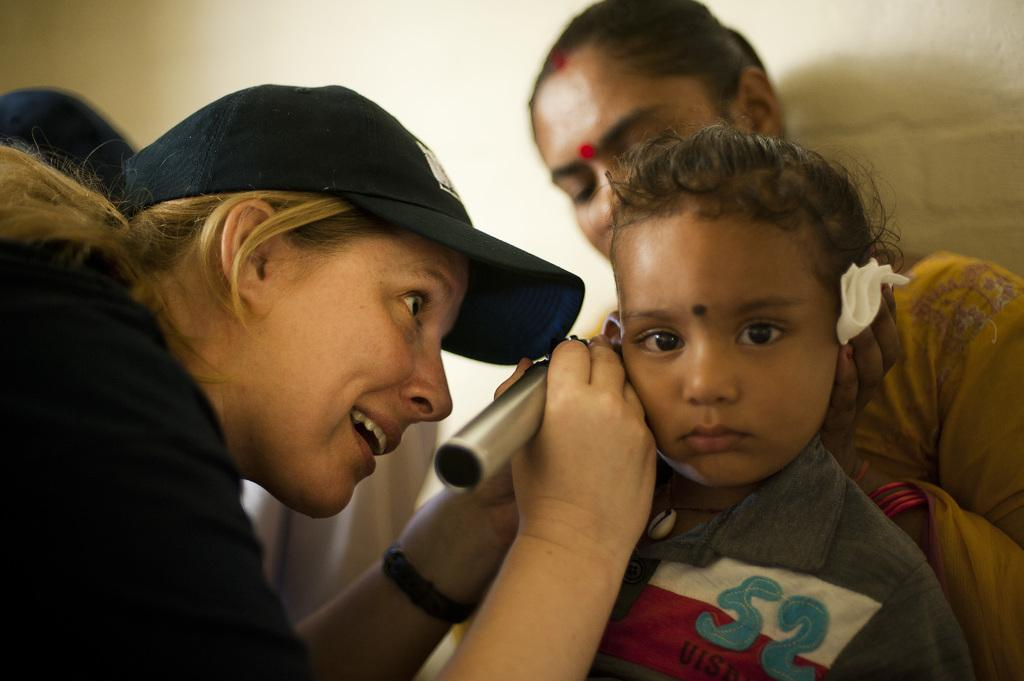Hat: (117, 80, 587, 367)
